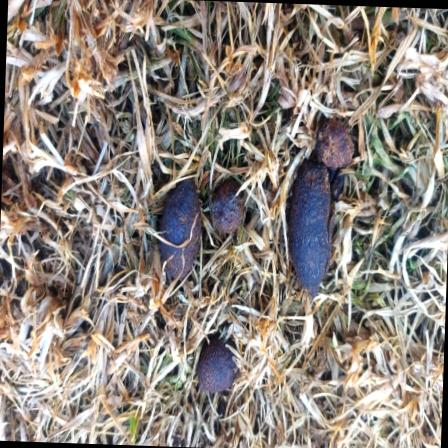dog-poop: (290, 116, 365, 312), (152, 170, 247, 284), (186, 330, 245, 406)
